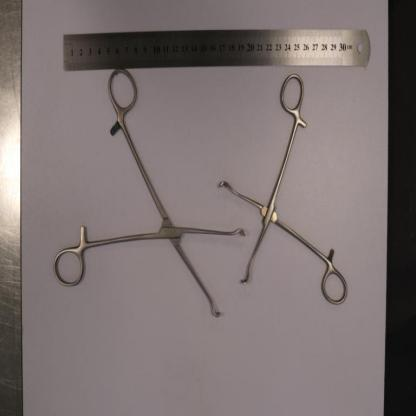8 Babcock Tissue Forceps: (54, 68, 246, 318)
Babcock Tissue Forceps: (219, 72, 348, 304)
